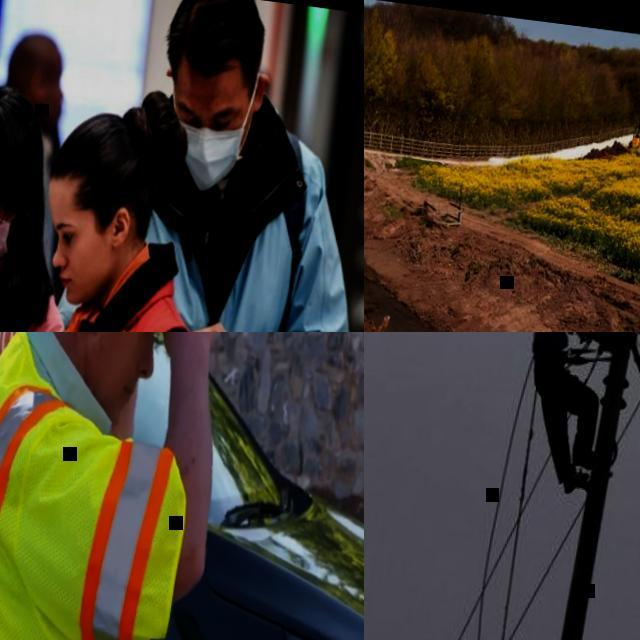Weapon: (140, 13, 356, 340), (36, 78, 192, 345)
